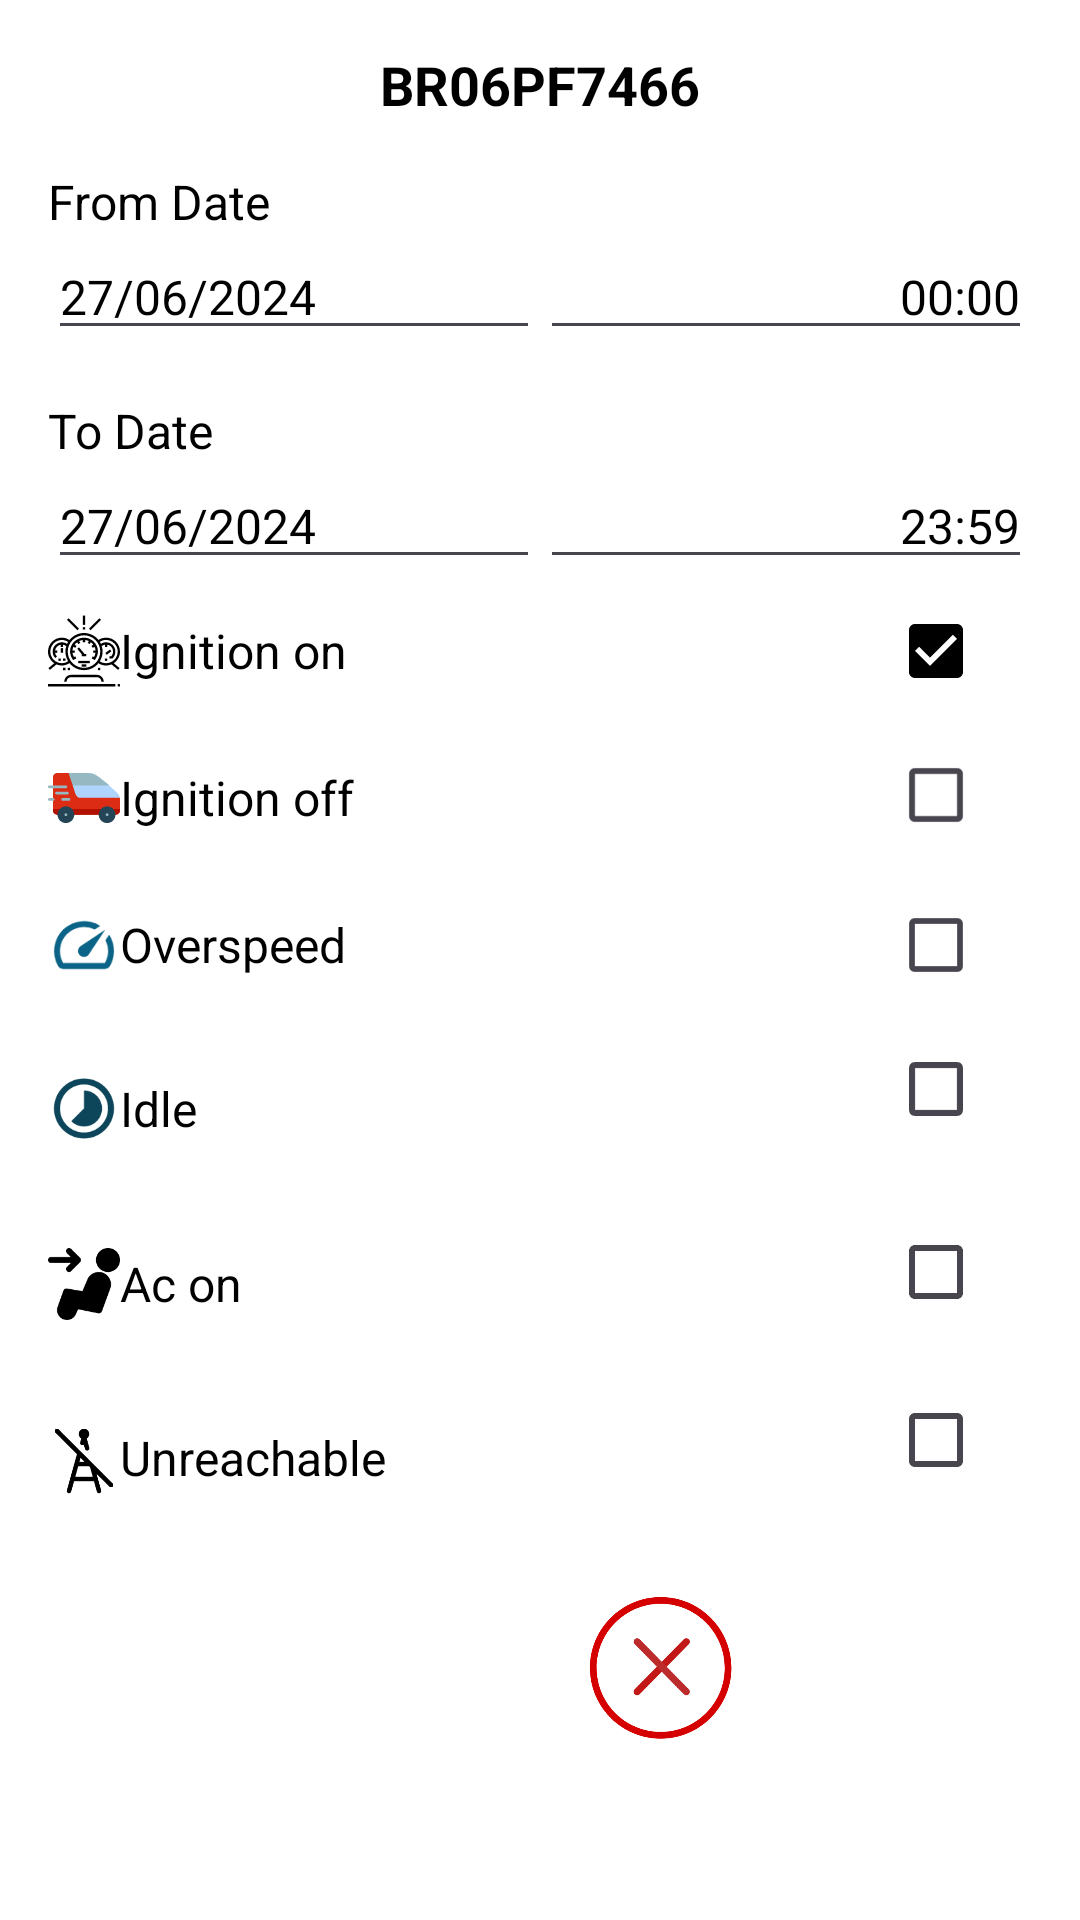

Named icons in this screenshot (1080×1920) and their centers, point (x, y):
antenna off: point (84, 1461)
timelapse: point (84, 1108)
wrong: point (661, 1668)
